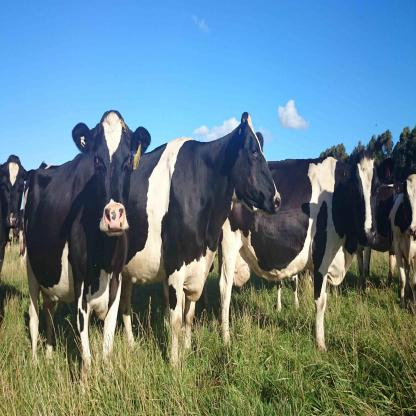cow: (121, 111, 282, 365), (219, 149, 398, 353), (23, 108, 152, 373), (355, 169, 416, 303), (0, 153, 28, 275)
